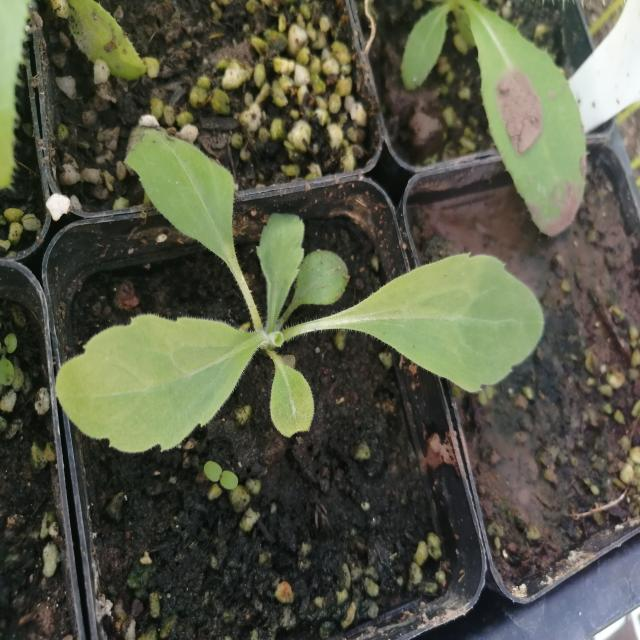horseweed: (56, 111, 524, 475)
